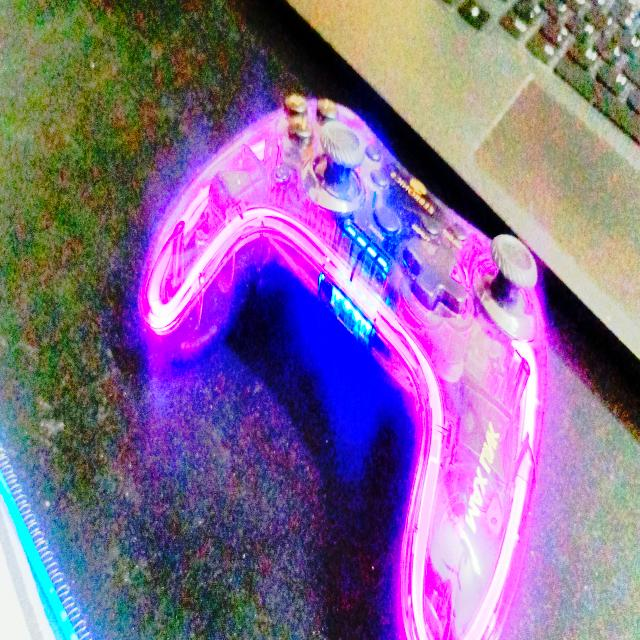gamepad: (138, 90, 550, 640)
